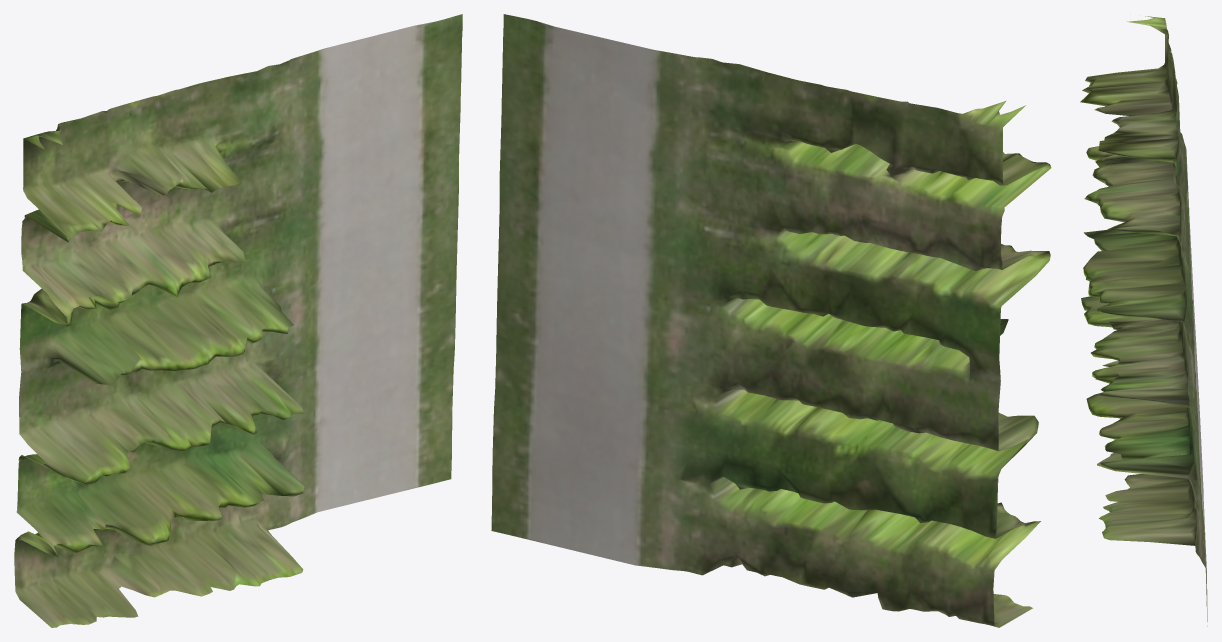
The model's file is map_190_80.obj.
3 views of the same model, side by side, from view 1: azimuth 30°, elevation 25°; view 2: azimuth 150°, elevation 25°; view 3: azimuth 270°, elevation 25° (orthographic). The views are drawn at different scales.
Size of the model in its own units: 10 by 10 by 2.77.
1 material, 1 textured.
